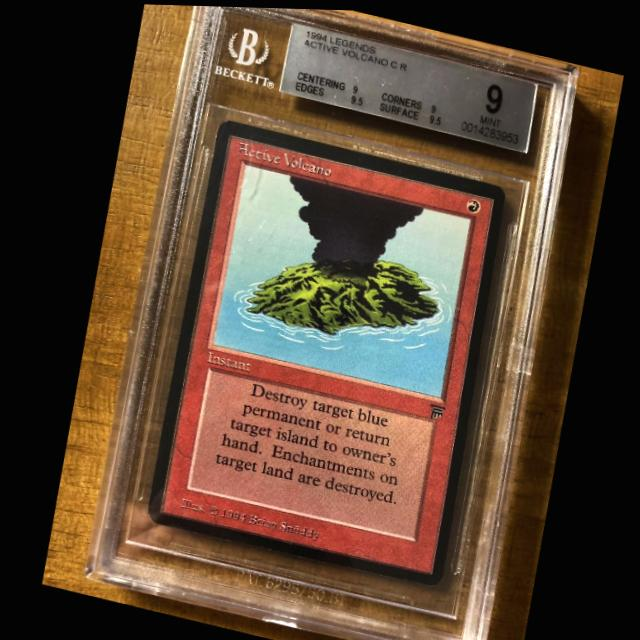bgs_label: (277, 20, 536, 149)
bgs_slab: (77, 4, 580, 640)
card: (140, 116, 506, 585)
